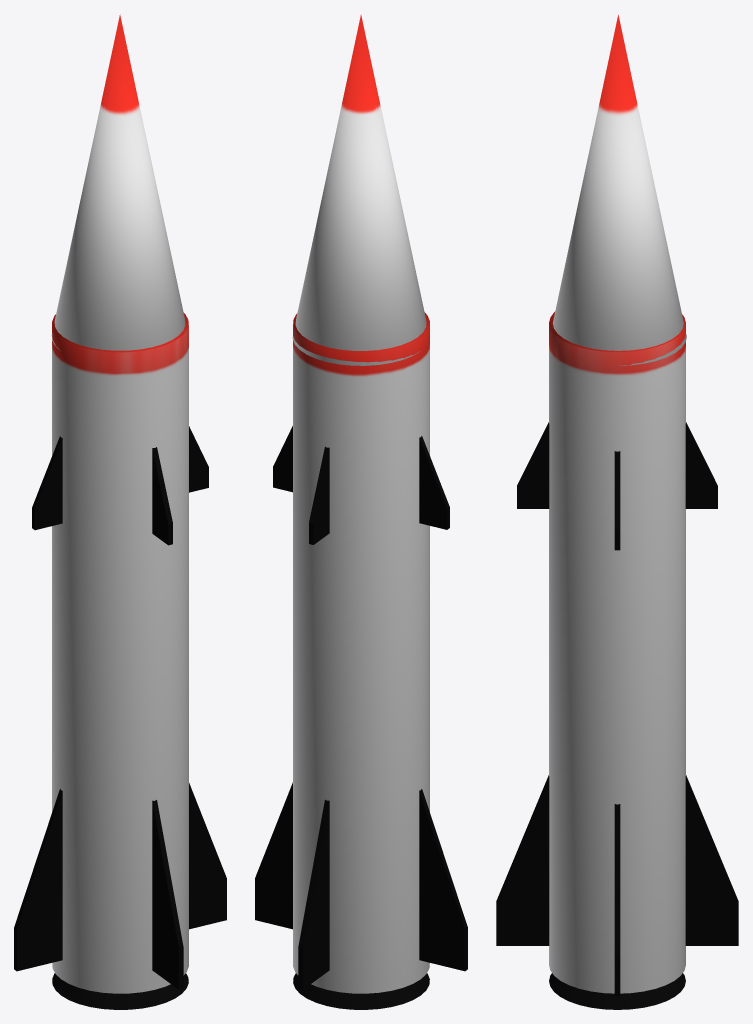
The model's file is dfyh.glb.
3 views of the same model, side by side, from view 1: azimuth 30°, elevation 25°; view 2: azimuth 150°, elevation 25°; view 3: azimuth 270°, elevation 25° (orthographic).
Visible parts, largest first — view 1: 弹身, 弹头, 立方体.004, 立方体.007, 立方体.008, 弹尾, 立方体.002, 立方体.005, 立方体.003; view 2: 弹身, 弹头, 立方体.004, 立方体.006, 立方体.008, 弹尾, 立方体.002, 立方体.001, 立方体.003; view 3: 弹身, 弹头, 立方体.007, 立方体.006, 弹尾, 立方体.001, 立方体.005, 立方体.008, 立方体.003.
Part boxes in pixels (bbox=[...]): 弹身: bbox=[52, 313, 188, 993]; 弹头: bbox=[51, 14, 185, 350]; 立方体.004: bbox=[14, 789, 62, 971]; 立方体.007: bbox=[152, 800, 183, 989]; 立方体.008: bbox=[189, 783, 226, 929]; 弹尾: bbox=[52, 973, 188, 1009]; 立方体.002: bbox=[32, 436, 62, 530]; 立方体.005: bbox=[152, 447, 172, 545]; 立方体.003: bbox=[189, 426, 208, 492]; 弹身: bbox=[293, 312, 429, 993]; 弹头: bbox=[292, 14, 426, 365]; 立方体.004: bbox=[419, 789, 467, 971]; 立方体.006: bbox=[298, 799, 329, 989]; 立方体.008: bbox=[255, 782, 292, 929]; 弹尾: bbox=[293, 973, 429, 1009]; 立方体.002: bbox=[419, 436, 449, 529]; 立方体.001: bbox=[309, 446, 329, 544]; 立方体.003: bbox=[273, 426, 292, 492]; 弹身: bbox=[549, 311, 685, 993]; 弹头: bbox=[552, 15, 686, 365]; 立方体.007: bbox=[496, 775, 549, 945]; 立方体.006: bbox=[685, 775, 738, 945]; 弹尾: bbox=[549, 973, 685, 1009]; 立方体.001: bbox=[685, 422, 717, 508]; 立方体.005: bbox=[517, 422, 549, 508]; 立方体.008: bbox=[614, 804, 620, 995]; 立方体.003: bbox=[614, 451, 620, 550].
Size of the model in its own units: 1.77 by 7.79 by 1.77.
11 materials, 11 textured.
